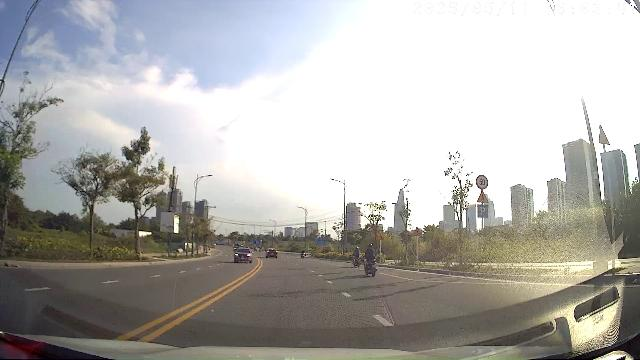127-toc-do-toi-da-50: (476, 175, 488, 189)
